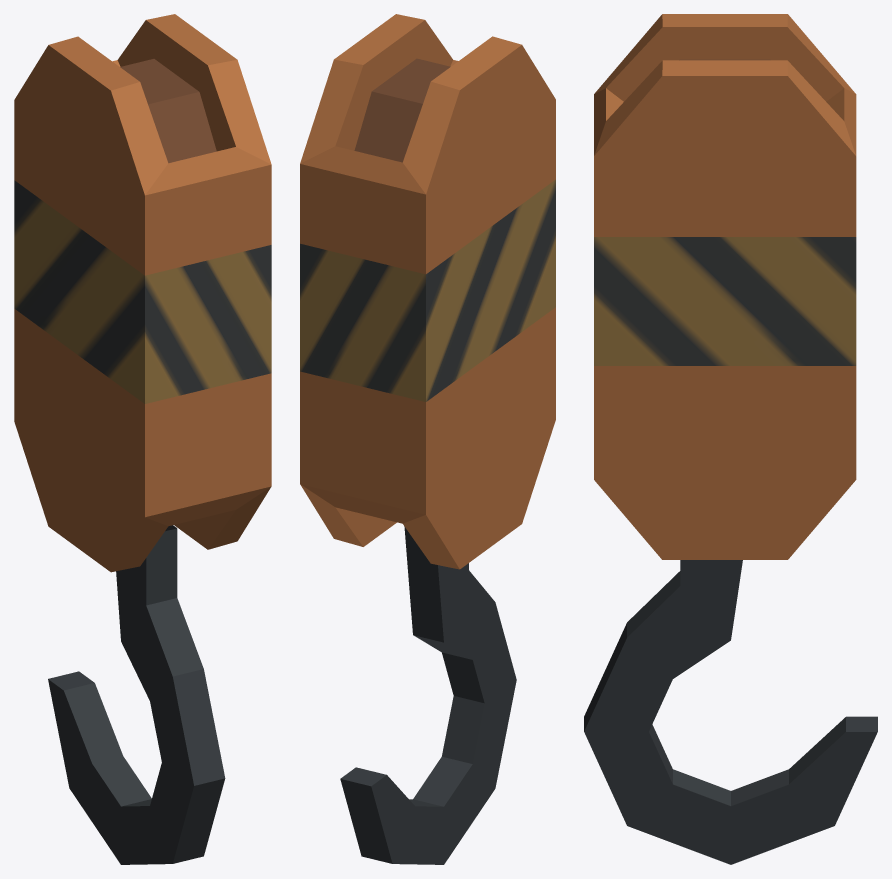
The model's file is SM_Bld_Crane_Hook_01.obj.
3 renders of one model, left to right at view 1: azimuth 30°, elevation 25°; view 2: azimuth 150°, elevation 25°; view 3: azimuth 270°, elevation 25°, orthographic.
Parts seen in each view (by area): view 1: SM_Bld_Crane_Hook_01_0; view 2: SM_Bld_Crane_Hook_01_0; view 3: SM_Bld_Crane_Hook_01_0.
Boxes of the visible parts, left/top/right/bottom form: SM_Bld_Crane_Hook_01_0: left=14, top=14, right=271, bottom=864; SM_Bld_Crane_Hook_01_0: left=300, top=14, right=555, bottom=864; SM_Bld_Crane_Hook_01_0: left=584, top=14, right=877, bottom=864.
Bounding box in the file's own units: 0.2743 × 1.68 × 0.5485.
1 material, 1 textured.
